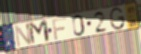0: (71, 14, 85, 37)
2: (92, 10, 108, 33)
F: (51, 16, 68, 41)
G: (109, 6, 126, 31)
M: (27, 19, 52, 47)
N: (14, 22, 33, 49)
